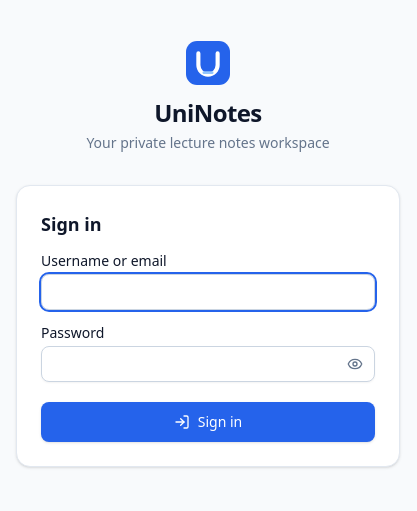
it: login and route guards › validates required fields before submitting
This screenshot has width=417, height=511.
Click the button "Sign in" at (208, 422), box x1=41 y1=402 x2=375 y2=442
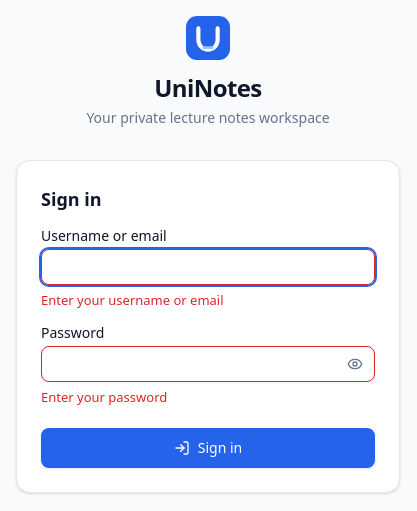
Check: the text "Enter your username or email" is shown, box x1=41 y1=290 x2=224 y2=308
Check: the text "Enter your password" is shown, box x1=41 y1=388 x2=167 y2=406
